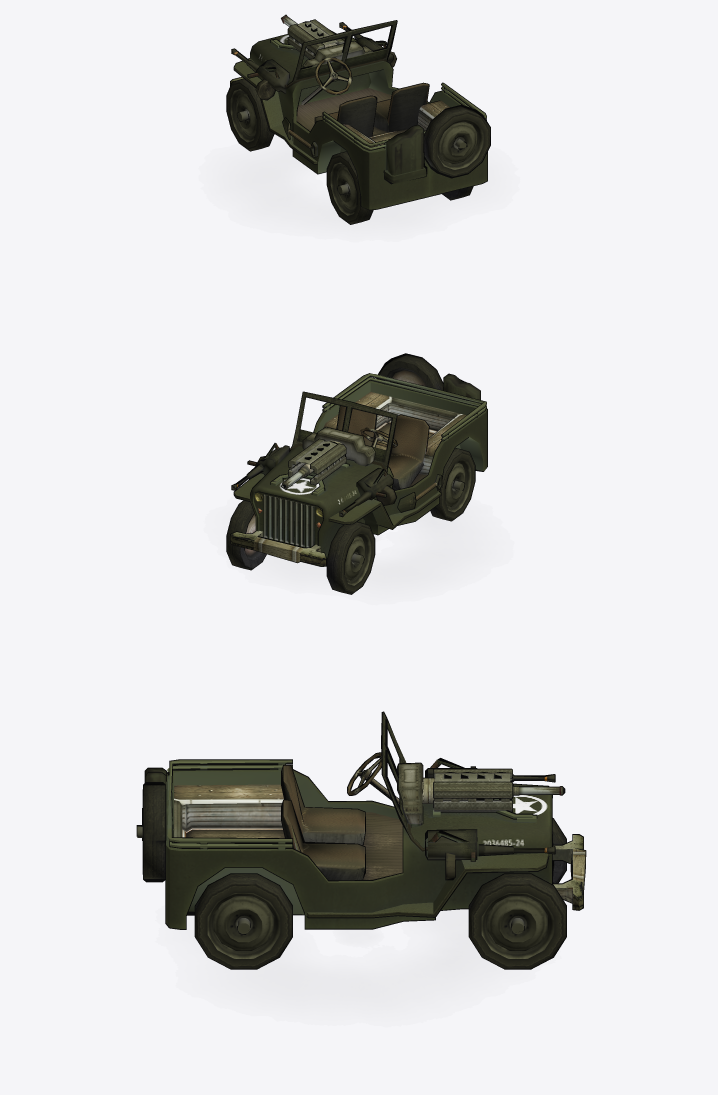
Rendered from jeep-willys.glb.
3 renders of one model, top to bottom at view 1: azimuth 30°, elevation 25°; view 2: azimuth 150°, elevation 25°; view 3: azimuth 270°, elevation 25°, orthographic. The views are drawn at different scales.
Visible parts, largest first — view 1: hull, Outline, wheel1, wheel2; view 2: hull, Outline, wheel1, wheel2, wheel3; view 3: hull, Outline, wheel3, wheel4.
Boxes of the visible parts, x1=… form: hull: x1=230, y1=15, x2=490, y2=209; Outline: x1=226, y1=14, x2=490, y2=224; wheel1: x1=227, y1=79, x2=273, y2=150; wheel2: x1=327, y1=151, x2=372, y2=224; hull: x1=230, y1=355, x2=487, y2=566; Outline: x1=226, y1=353, x2=487, y2=594; wheel1: x1=327, y1=522, x2=374, y2=594; wheel2: x1=430, y1=448, x2=474, y2=520; wheel3: x1=227, y1=500, x2=266, y2=569; hull: x1=137, y1=712, x2=585, y2=928; Outline: x1=136, y1=711, x2=586, y2=969; wheel3: x1=469, y1=874, x2=566, y2=968; wheel4: x1=195, y1=874, x2=292, y2=968.
Bounding box in the file's own units: 5.08 × 1.57 × 5.08.
Materials: 3 (2 with a texture image).
